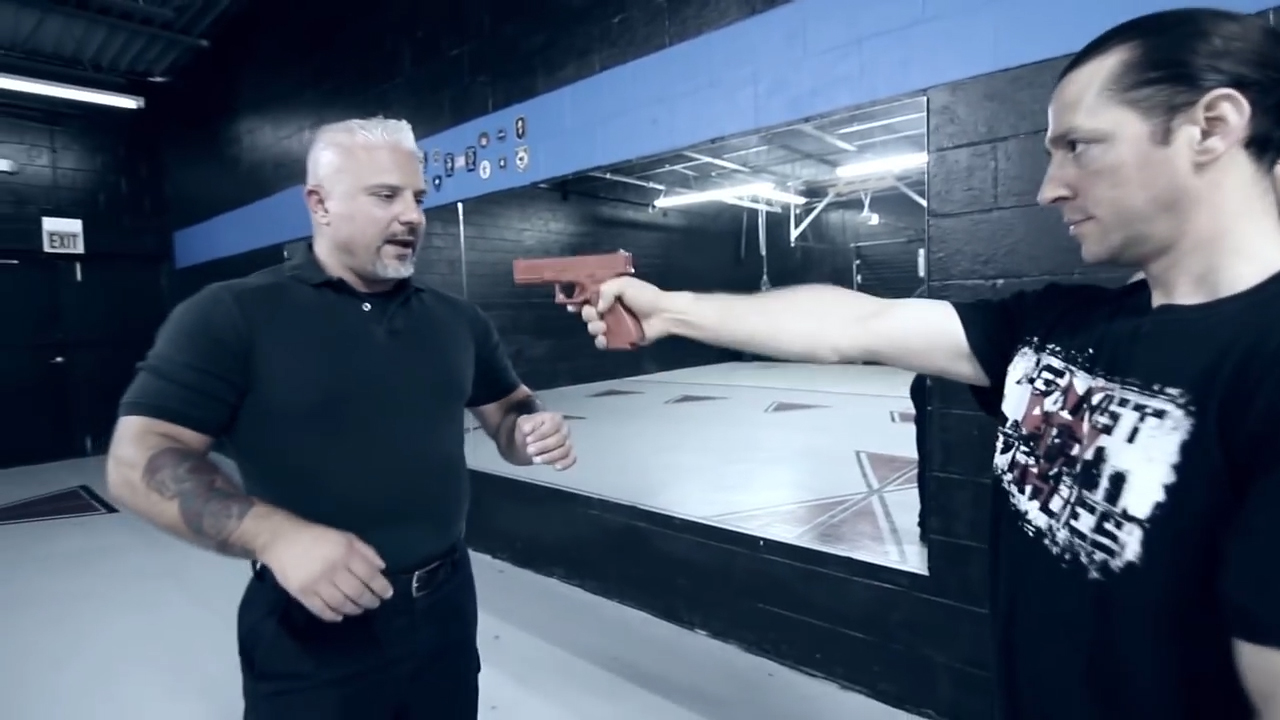pistol: (510, 246, 650, 352)
